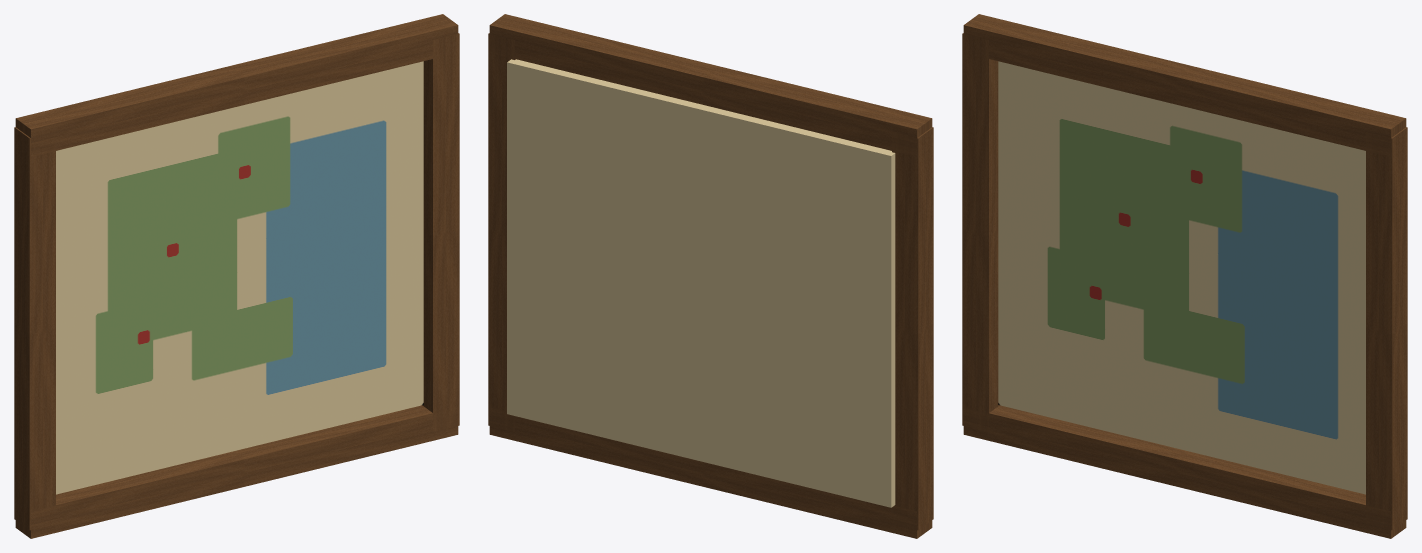
Rendered from framed-map.glb.
3 renders of one model, left to right at view 1: azimuth 30°, elevation 25°; view 2: azimuth 150°, elevation 25°; view 3: azimuth 330°, elevation 25°, orthographic.
Visible parts, largest first — view 1: Painting textured content, Map horizontal frame.001, Map horizontal frame, Map vertical frame, Map vertical frame.001; view 2: Map panel, Map horizontal frame.001, Map vertical frame, Map horizontal frame, Map vertical frame.001; view 3: Painting textured content, Map horizontal frame.001, Map horizontal frame, Map vertical frame.001, Map vertical frame.
Boxes of the visible parts, x1=… form: Painting textured content: x1=56, y1=61, x2=423, y2=494; Map horizontal frame.001: x1=15, y1=14, x2=458, y2=156; Map horizontal frame: x1=15, y1=405, x2=458, y2=538; Map vertical frame: x1=14, y1=127, x2=55, y2=530; Map vertical frame.001: x1=422, y1=33, x2=459, y2=431; Map panel: x1=507, y1=59, x2=895, y2=507; Map horizontal frame.001: x1=489, y1=14, x2=932, y2=156; Map vertical frame: x1=892, y1=127, x2=933, y2=530; Map horizontal frame: x1=489, y1=407, x2=932, y2=538; Map vertical frame.001: x1=488, y1=33, x2=515, y2=431; Painting textured content: x1=998, y1=61, x2=1365, y2=494; Map horizontal frame.001: x1=963, y1=14, x2=1406, y2=156; Map horizontal frame: x1=963, y1=405, x2=1406, y2=538; Map vertical frame.001: x1=1366, y1=127, x2=1407, y2=530; Map vertical frame: x1=962, y1=33, x2=999, y2=431.
Size of the model in its own units: 0.895 by 0.815 by 0.07.
3 materials, 2 textured.
